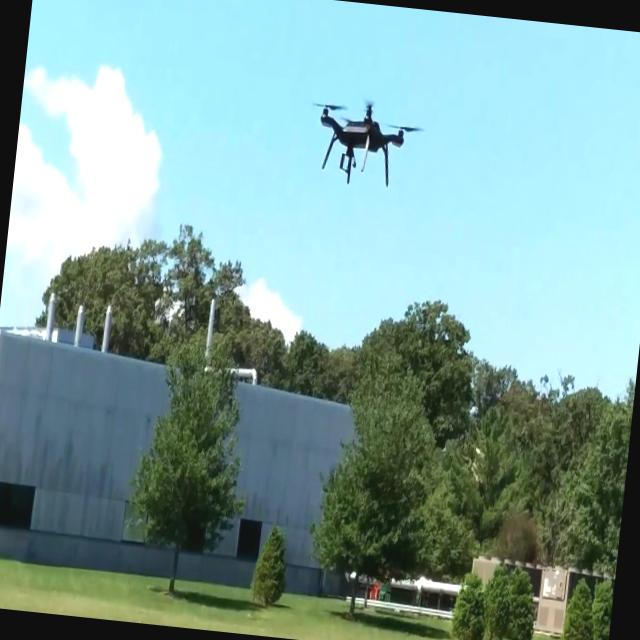drone: (302, 88, 422, 192)
